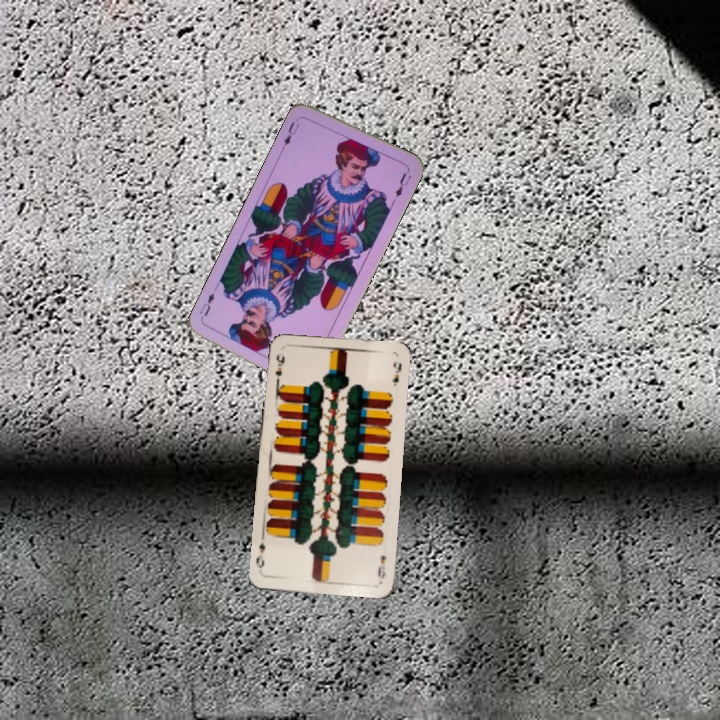E9: (271, 350, 286, 387), (374, 551, 389, 581)
EU: (280, 118, 302, 148)
